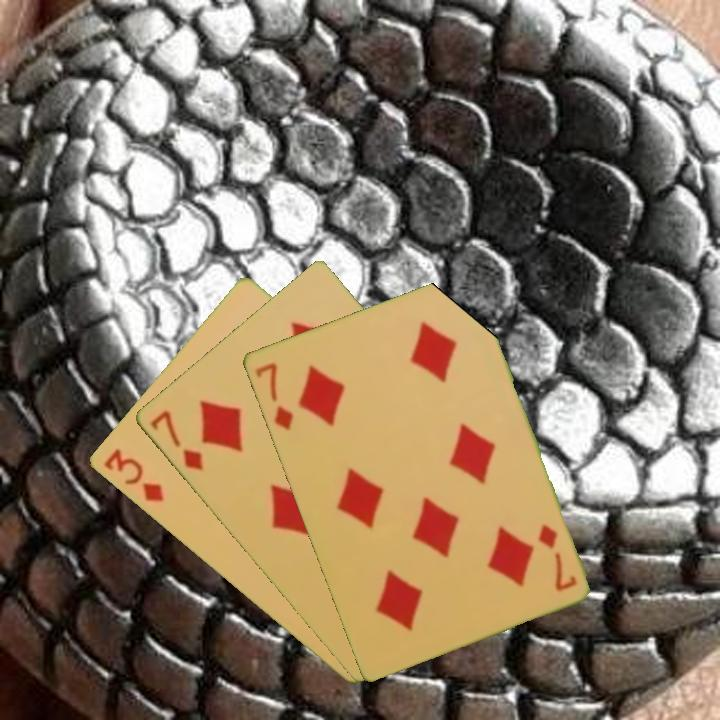3d: (100, 445, 167, 505)
7d: (146, 407, 206, 473), (533, 520, 579, 594), (251, 359, 296, 433)
